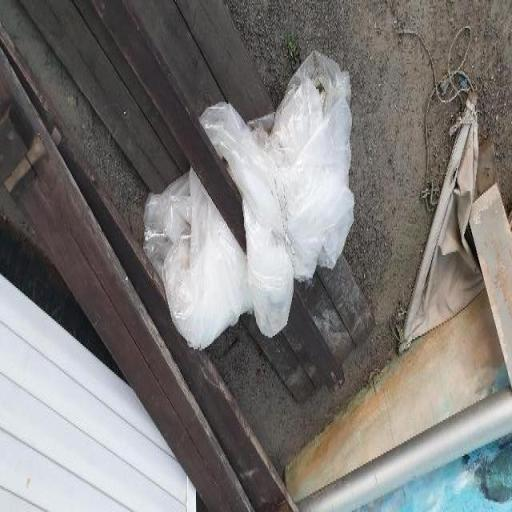plastic-bag: (139, 44, 358, 357)
